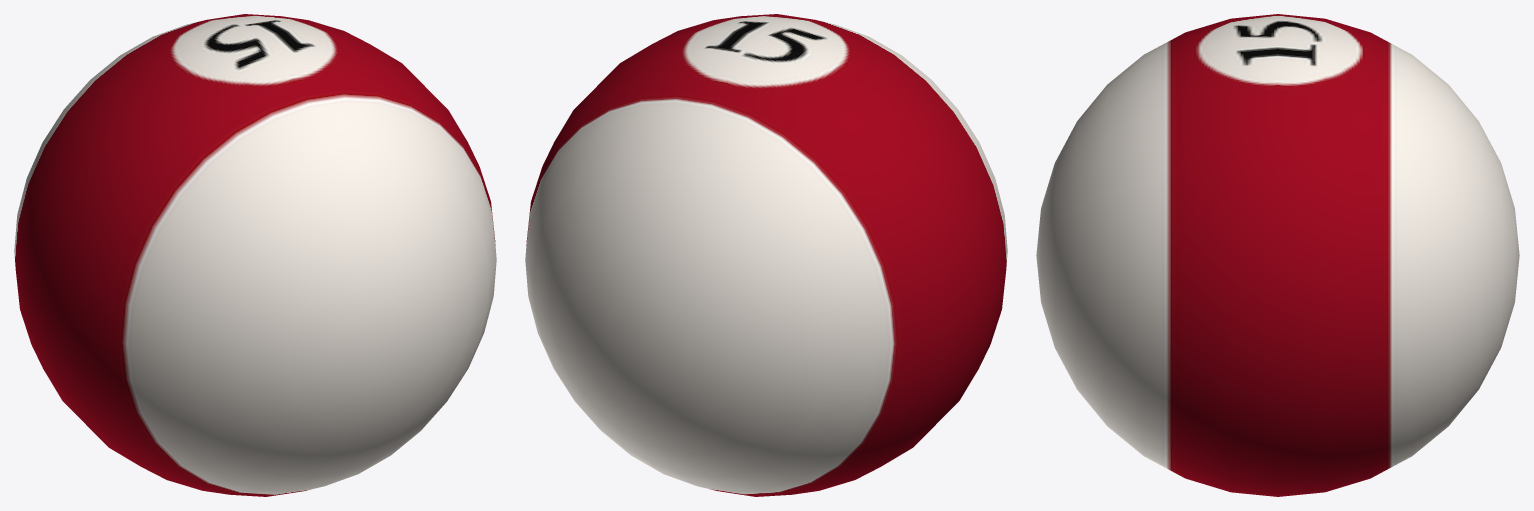
The model's file is Billiard Ball 15.glb.
3 views of the same model, side by side, from view 1: azimuth 30°, elevation 25°; view 2: azimuth 150°, elevation 25°; view 3: azimuth 270°, elevation 25° (orthographic).
Parts seen in each view (by area): view 1: Ball15_06 - Default_0; view 2: Ball15_06 - Default_0; view 3: Ball15_06 - Default_0.
Boxes of the visible parts, left/top/right/bottom form: Ball15_06 - Default_0: left=14, top=14, right=496, bottom=496; Ball15_06 - Default_0: left=525, top=14, right=1007, bottom=496; Ball15_06 - Default_0: left=1036, top=14, right=1519, bottom=496.
Size of the model in its own units: 37.86 by 37.86 by 37.86.
Materials: 1 (1 with a texture image).
